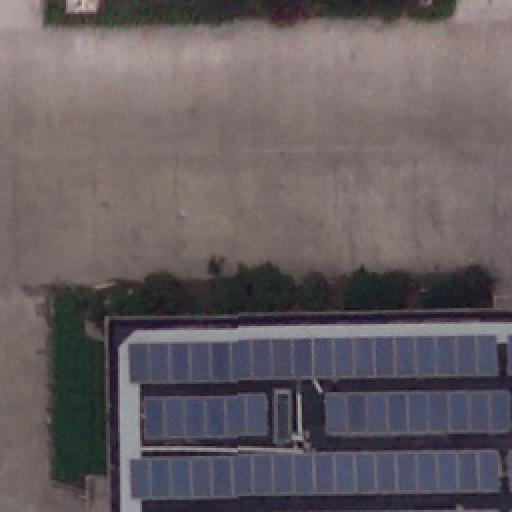solar-panel: (131, 331, 501, 381), (130, 447, 498, 497), (323, 390, 509, 434), (141, 394, 267, 438), (382, 508, 498, 512), (505, 332, 511, 376), (508, 447, 512, 489)
